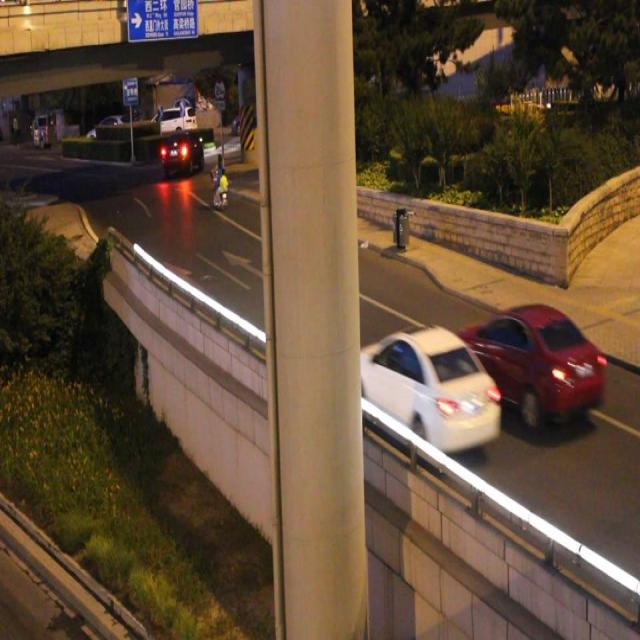car: (347, 321, 501, 458), (452, 299, 604, 430)
